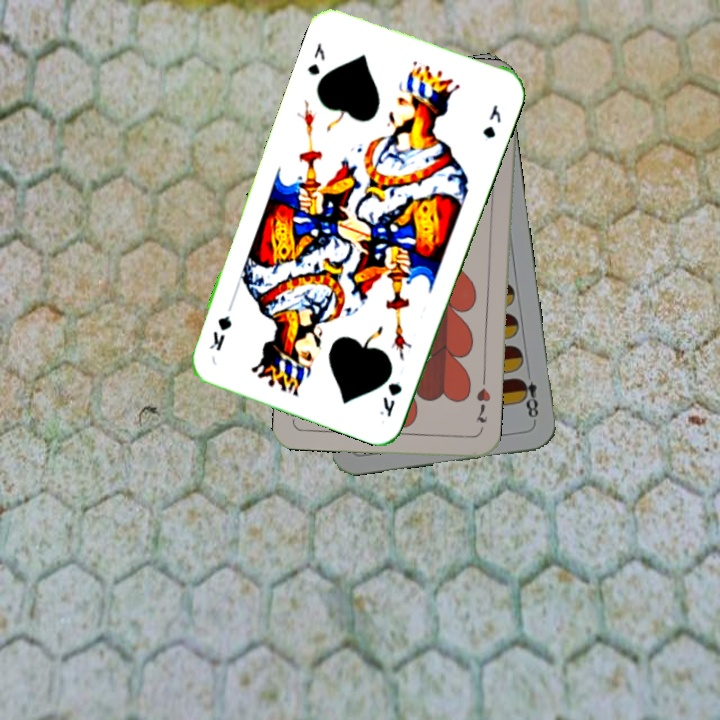E8: (515, 374, 541, 425)
GK: (375, 378, 405, 420), (303, 38, 328, 78)
H7: (472, 384, 493, 425)
